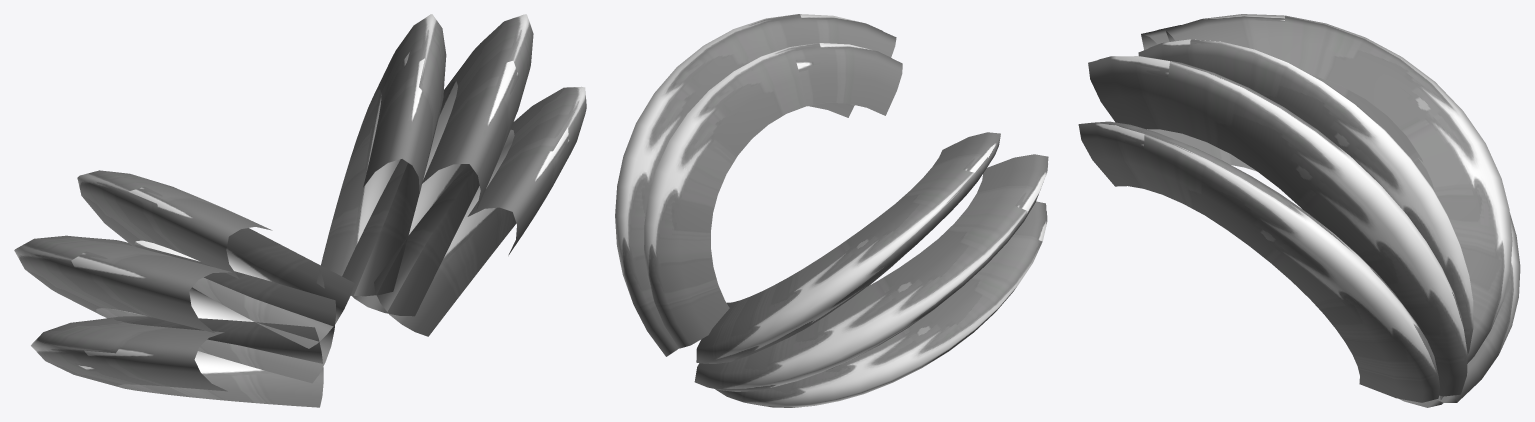
File: fx_m10308_skill01.fbx
The picture shows the model from 3 angles, left to right: view 1: azimuth 30°, elevation 25°; view 2: azimuth 150°, elevation 25°; view 3: azimuth 270°, elevation 25°; orthographic projection. The views are drawn at different scales.
Visible parts, largest first — view 1: trail_R_add, trail_add, trail_alpha, trail_R_alpha; view 2: trail_R_add, trail_add, trail_R_alpha, trail_alpha; view 3: trail_add, trail_R_add, trail_alpha, trail_R_alpha.
Part boxes in pixels (bbox=[...]): trail_R_add: bbox=[14, 170, 354, 407]; trail_add: bbox=[316, 14, 586, 336]; trail_alpha: bbox=[352, 49, 569, 297]; trail_R_alpha: bbox=[71, 186, 320, 376]; trail_R_add: bbox=[694, 132, 1048, 407]; trail_add: bbox=[615, 14, 902, 356]; trail_R_alpha: bbox=[871, 136, 1047, 253]; trail_alpha: bbox=[734, 14, 891, 115]; trail_add: bbox=[1078, 39, 1473, 402]; trail_R_add: bbox=[1141, 15, 1520, 407]; trail_alpha: bbox=[1084, 39, 1255, 229]; trail_R_alpha: bbox=[1155, 14, 1411, 95].
Size of the model in its own units: 672 by 515 by 566.
2 materials, 2 textured.
